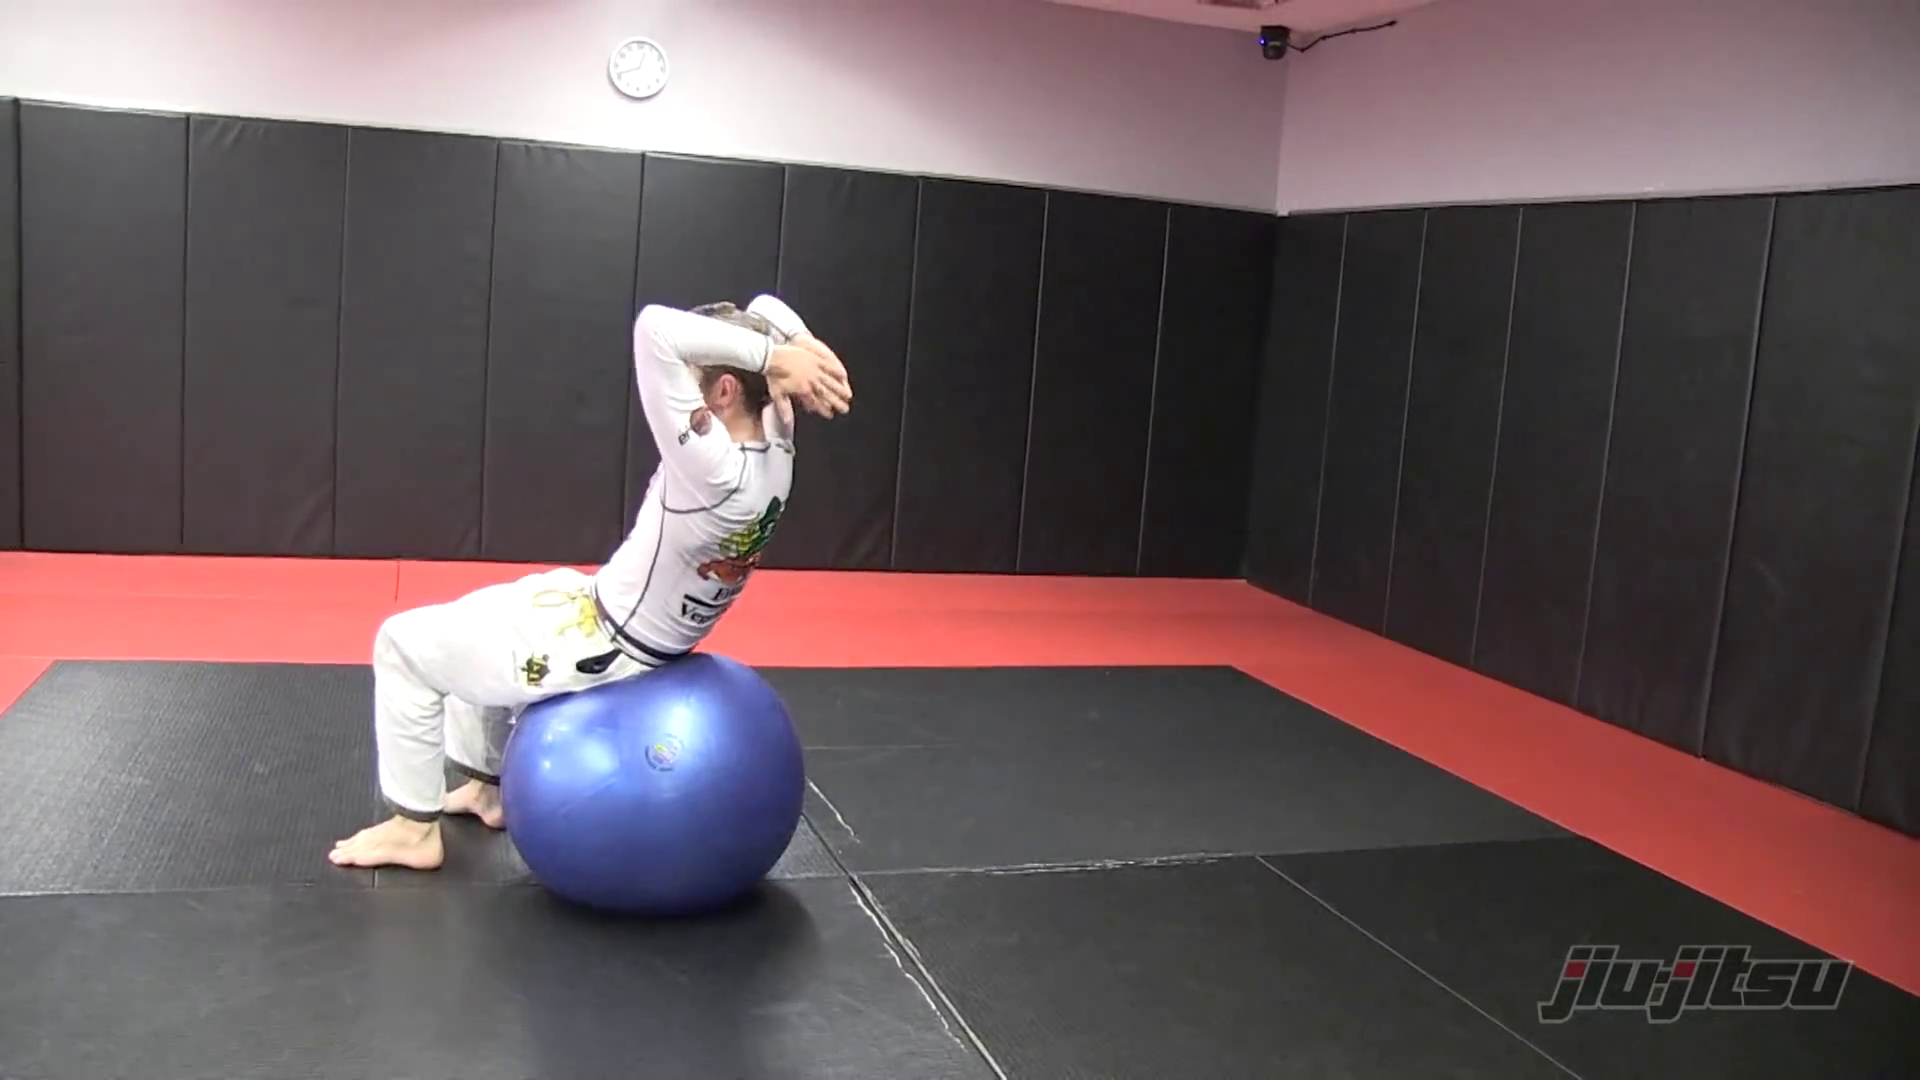yogaball: (500, 644, 824, 942)
